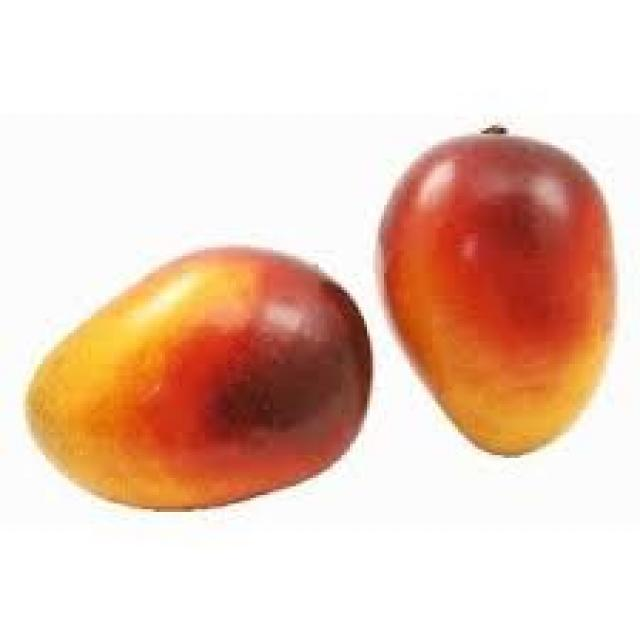organic waste: (26, 242, 370, 512), (378, 122, 614, 455)
